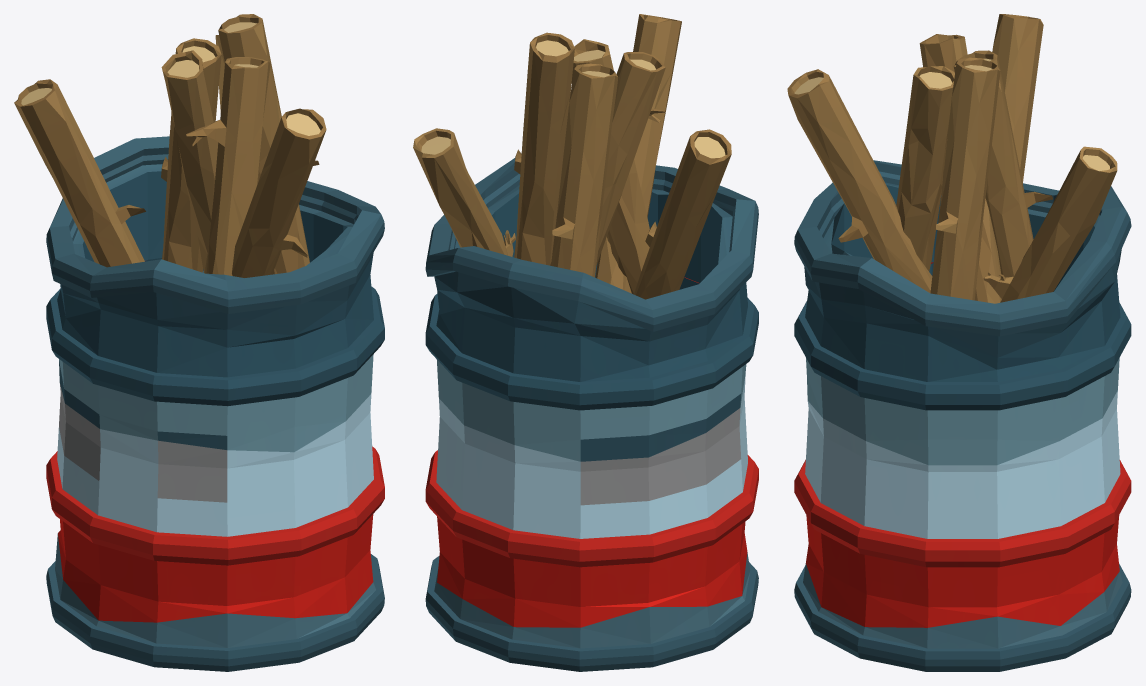
File: burning_barell.obj
The picture shows the model from 3 angles, left to right: view 1: azimuth 30°, elevation 25°; view 2: azimuth 150°, elevation 25°; view 3: azimuth 270°, elevation 25°; orthographic projection.
Visible parts, largest first — view 1: barell_Material, log_5.004_Material, log_6.002_Material, log_5.005_Material, log_4.002_Material, log_5.002_Material, log_5.003_Material; view 2: barell_Material, log_5.003_Material, log_5.002_Material, log_5.004_Material, log_3.002_Material, log_4.002_Material, log_5.005_Material, log_6.002_Material; view 3: barell_Material, log_5.003_Material, log_5.005_Material, log_3.002_Material, log_6.002_Material, log_5.002_Material, log_5.004_Material, log_4.002_Material.
Boxes of the visible parts, x1,y1,x2,y2 form: barell_Material: [46, 136, 384, 671]; log_5.004_Material: [14, 79, 145, 267]; log_6.002_Material: [185, 57, 270, 275]; log_5.005_Material: [232, 108, 326, 277]; log_4.002_Material: [161, 50, 218, 273]; log_5.002_Material: [161, 38, 221, 272]; log_5.003_Material: [218, 14, 319, 274]; barell_Material: [425, 158, 758, 671]; log_5.003_Material: [514, 32, 574, 265]; log_5.002_Material: [551, 63, 618, 277]; log_5.004_Material: [633, 129, 731, 299]; log_3.002_Material: [413, 128, 515, 256]; log_4.002_Material: [550, 52, 665, 265]; log_5.005_Material: [595, 14, 681, 293]; log_6.002_Material: [571, 39, 665, 294]; barell_Material: [794, 160, 1131, 671]; log_5.003_Material: [930, 57, 1000, 300]; log_5.005_Material: [787, 69, 932, 293]; log_3.002_Material: [983, 146, 1117, 302]; log_6.002_Material: [896, 66, 954, 271]; log_5.002_Material: [953, 50, 1052, 277]; log_5.004_Material: [992, 14, 1043, 183]; log_4.002_Material: [919, 34, 1001, 303].
Size of the model in its own units: 0.7379 by 1.28 by 0.7135.
